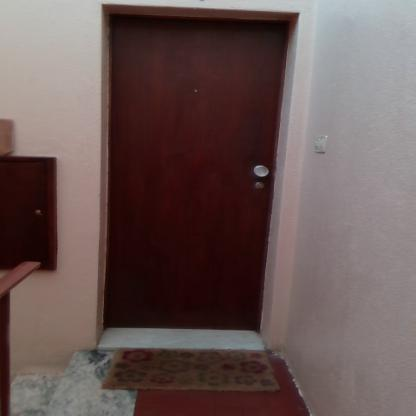door: (108, 16, 270, 326)
knob: (250, 162, 271, 180)
